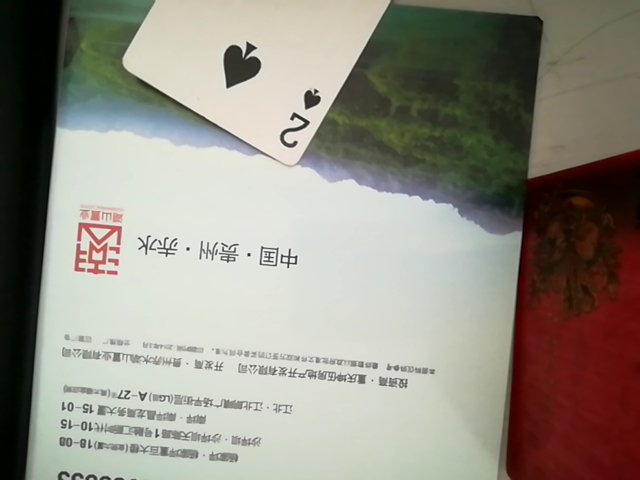ht 2: (101, 2, 432, 163)
